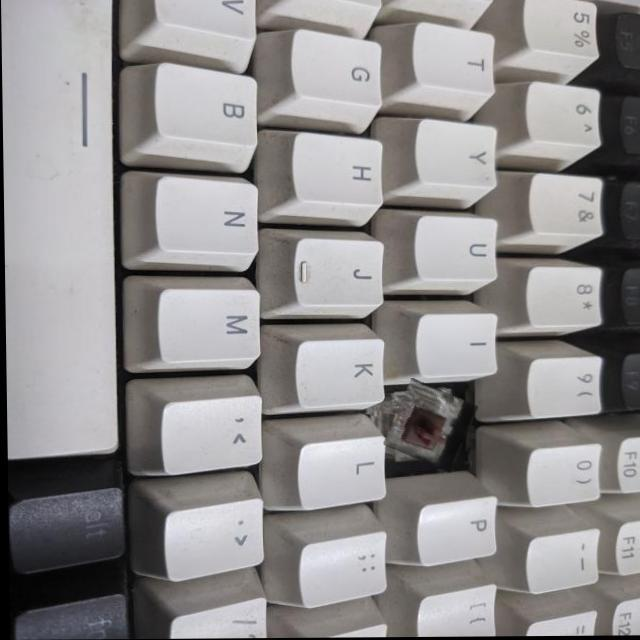key-switch: (386, 384, 471, 468)
